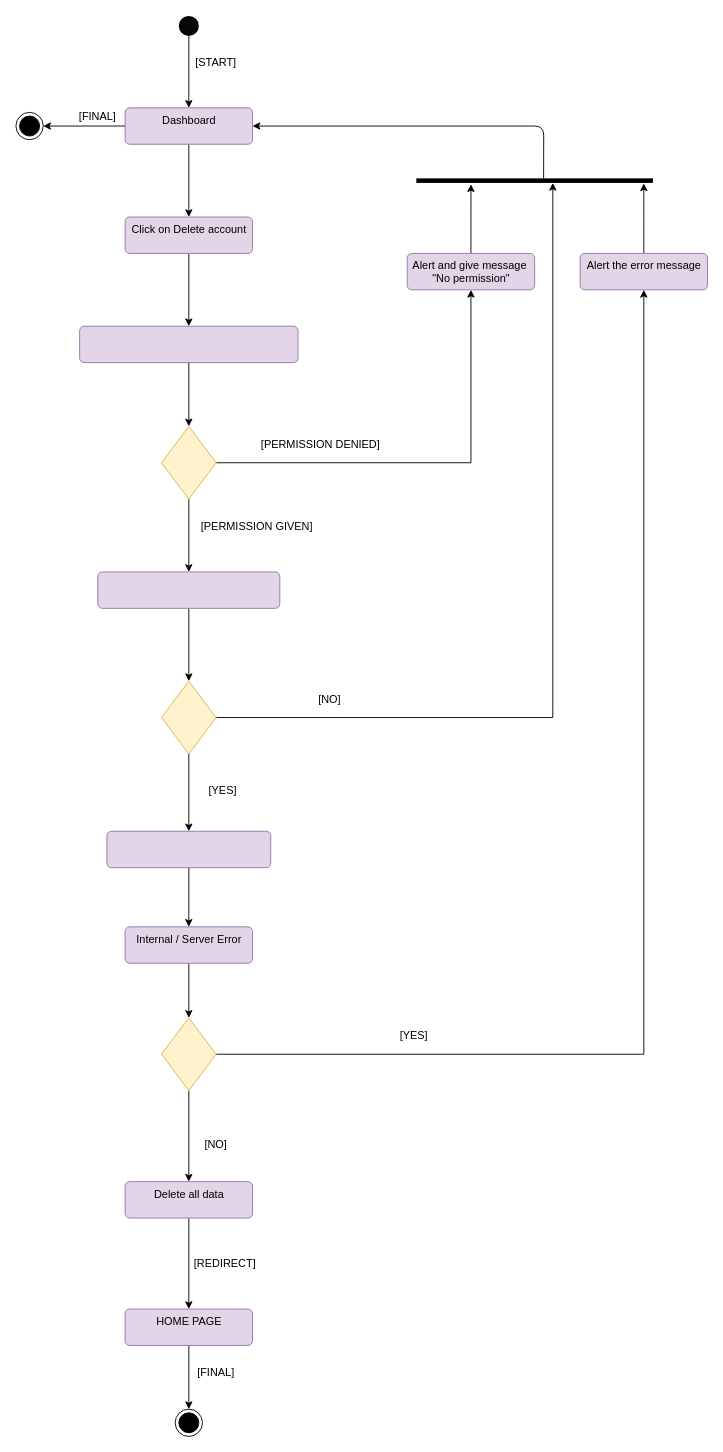
The diagram is 723 pixels wide and 1452 high, and some of its shapes have lost their labels. Each missing label, with the centre of its shape:
"Check Requirements and Permissions" belongs at point 188,344.
"Final alert before deleting account" belongs at point 188,589.
"Start account deletion process" belongs at point 188,849.
